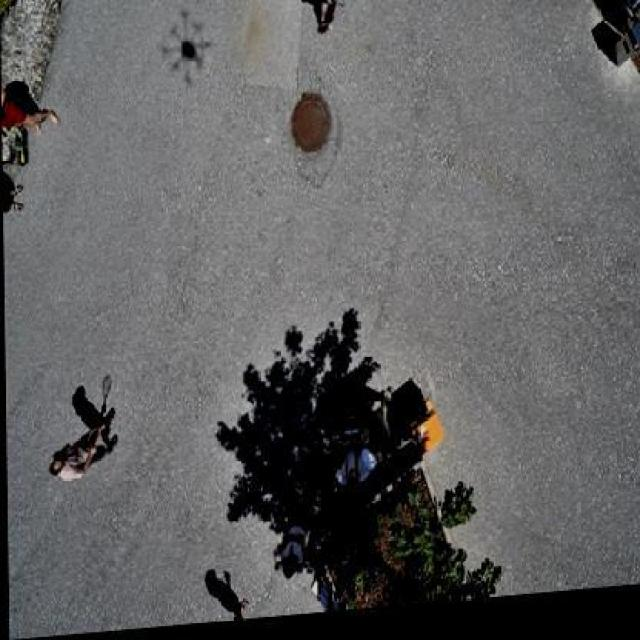Person: (36, 424, 116, 488), (2, 81, 69, 136), (268, 512, 306, 585), (297, 0, 354, 48)
